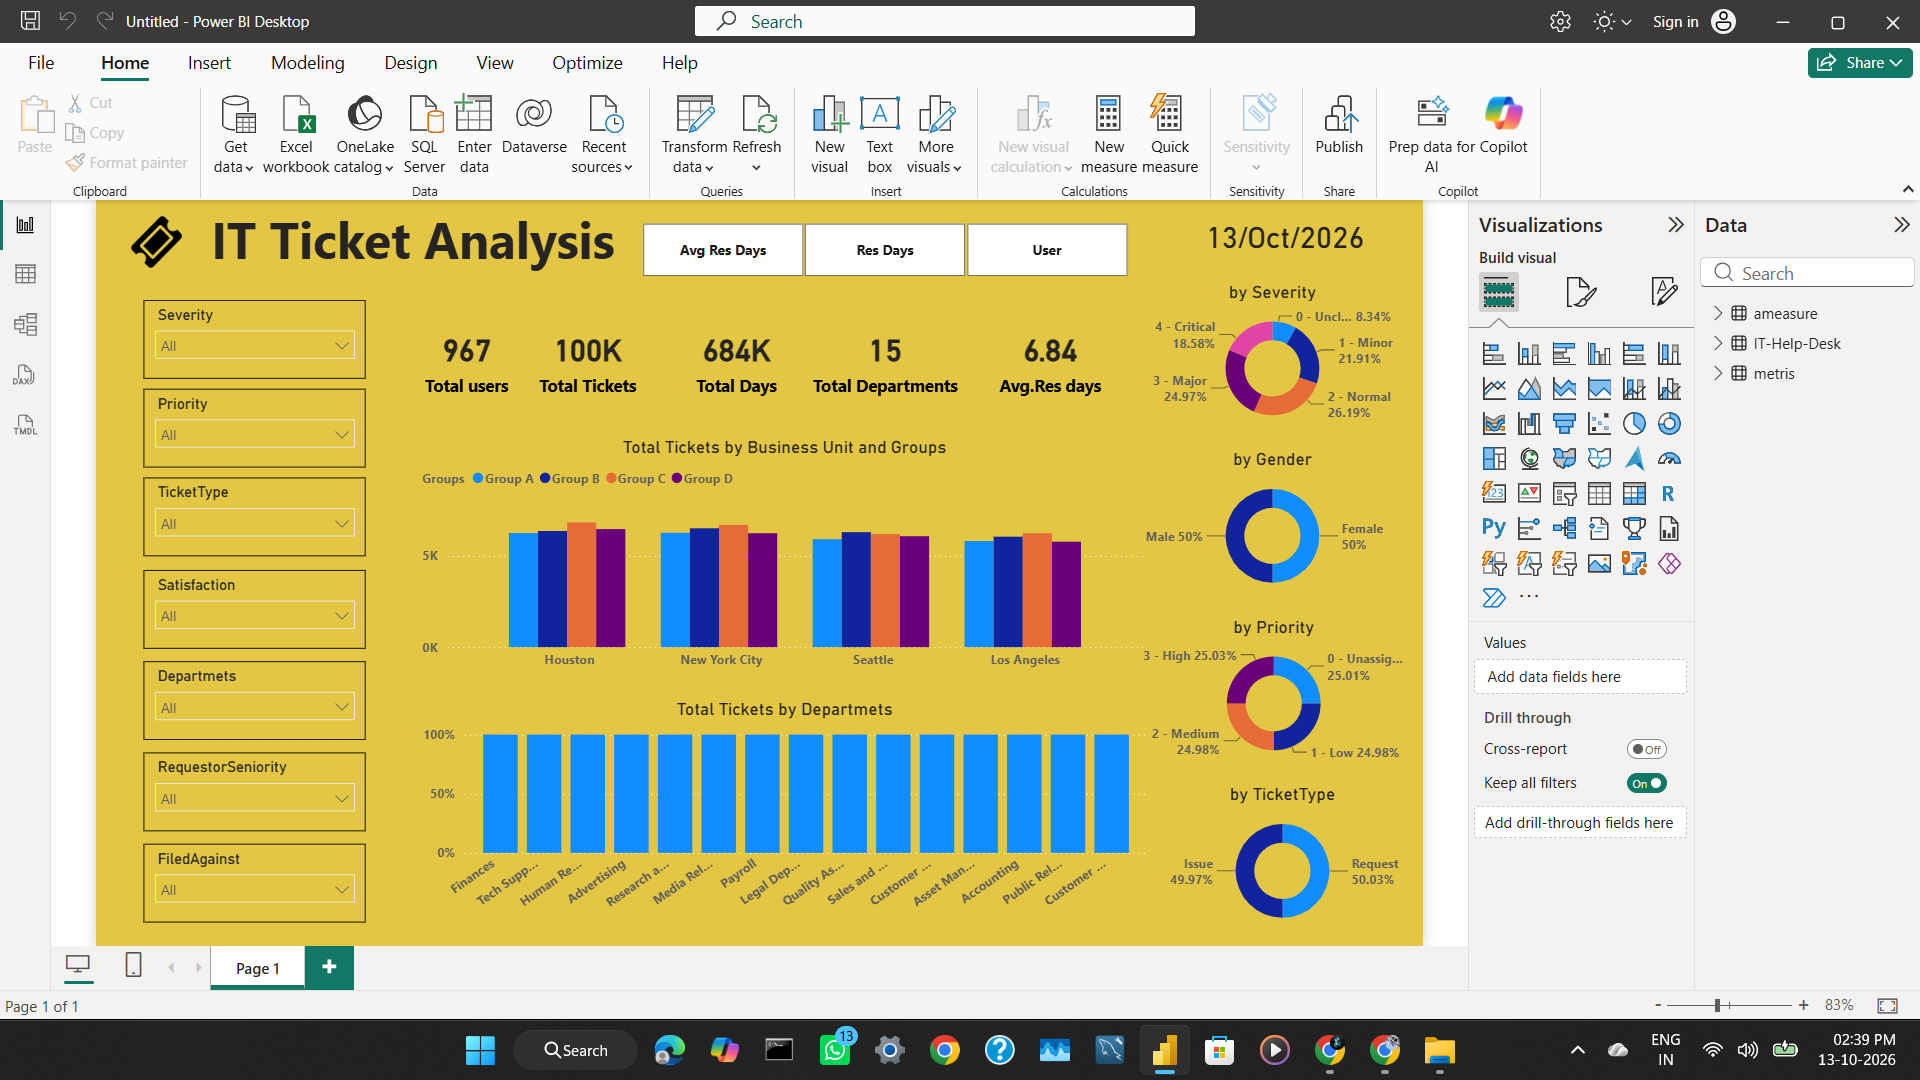

The page's visual inventory and layout, read from the dashboard file:
{"tool":"powerbi","page":{"name":"Page 1","canvas":[1280,720],"ordinal":0},"visuals":[{"type":"group","id":"g1","title":"Headings","box":[16.3,0,564.9,80],"z":0},{"type":"textbox","box":[106.3,0,474.9,80],"z":0,"group":"g1"},{"type":"donutChart","title":" by Severity","fields":{"Y":["ameasure.logic"],"Series":["IT-Help-Desk.Severity"]},"box":[1007.4,78.4,256.6,147.8],"z":0,"group":"g5"},{"type":"slicer","fields":{"Values":["IT-Help-Desk.Severity"]},"box":[45.7,96.7,214.7,76],"z":0,"group":"g2"},{"type":"card","fields":{"Values":["ameasure.total tickets"]},"box":[367.3,96.7,216.1,115.8],"z":0,"group":"g3"},{"type":"clusteredColumnChart","fields":{"Y":["ameasure.Total Tickets"],"Category":["IT-Help-Desk.Business Unit"],"Series":["IT-Help-Desk.Groups"]},"box":[310.3,228.4,709.3,233.8],"z":0,"group":"g4"},{"type":"image","box":[16.3,15.7,85.7,49.5],"z":1000,"group":"g1"},{"type":"group","id":"g2","title":"Slicers","box":[45.7,96.7,214.9,600.5],"z":1000},{"type":"card","fields":{"Values":["ameasure.Total Department"]},"box":[654.2,96.7,216.1,115.8],"z":1000,"group":"g3"},{"type":"slicer","fields":{"Values":["IT-Help-Desk.Priority"]},"box":[45.7,182.4,214.7,76],"z":1000,"group":"g2"},{"type":"donutChart","title":" by Gender","fields":{"Y":["ameasure.logic"],"Series":["IT-Help-Desk.Gender"]},"box":[1007.4,239.6,256.6,147.8],"z":1000,"group":"g5"},{"type":"hundredPercentStackedColumnChart","fields":{"Y":["ameasure.Total Tickets"],"Category":["IT-Help-Desk.Departmets"]},"box":[310.3,482.3,709.3,214.9],"z":1000,"group":"g4"},{"type":"group","id":"g3","title":"slicers","box":[249.9,96.7,779.2,115.5],"z":2000},{"type":"card","fields":{"Values":["ameasure.Total Days"]},"box":[510.2,96.7,216.1,115.8],"z":2000,"group":"g3"},{"type":"slicer","fields":{"Values":["IT-Help-Desk.TicketType"]},"box":[45.7,268,214.7,76],"z":2000,"group":"g2"},{"type":"donutChart","title":"by Priority","fields":{"Y":["ameasure.logic"],"Series":["IT-Help-Desk.Priority"]},"box":[1008.7,402.2,256.6,147.8],"z":2000,"group":"g5"},{"type":"card","fields":{"Values":["ameasure.Total users"]},"box":[249.9,96.7,216.4,115.5],"z":3000,"group":"g3"},{"type":"group","id":"g4","title":"Bar charts","box":[310.3,228.4,709.3,468.9],"z":3000},{"type":"slicer","fields":{"Values":["IT-Help-Desk.Satisfaction"]},"box":[45.7,357.3,214.7,76],"z":3000,"group":"g2"},{"type":"donutChart","title":" by TicketType","fields":{"Y":["ameasure.logic"],"Category":["IT-Help-Desk.TicketType"]},"box":[1016.8,563.4,256.6,147.8],"z":3000,"group":"g5"},{"type":"slicer","fields":{"Values":["metris.Column1"]},"box":[502.4,16.1,517.2,64.5],"z":4000},{"type":"card","fields":{"Values":["ameasure.Avg.res days"]},"box":[813.2,96.7,216.1,115.8],"z":4000,"group":"g3"},{"type":"slicer","fields":{"Values":["IT-Help-Desk.Departmets"]},"box":[45.7,445.4,214.7,76],"z":4000,"group":"g2"},{"type":"group","id":"g5","title":"donut","box":[1007.4,78.4,266.6,633.4],"z":5000},{"type":"slicer","fields":{"Values":["IT-Help-Desk.RequestorSeniority"]},"box":[45.7,533.4,214.7,76],"z":5000,"group":"g2"},{"type":"card","fields":{"Values":["ameasure.Last Refresh Date"]},"box":[1030.3,15.7,235.3,37.4],"z":6000},{"type":"slicer","fields":{"Values":["IT-Help-Desk.FiledAgainst"]},"box":[45.7,621.5,214.7,76],"z":6000,"group":"g2"}]}

Visuals, with their boxes on the page's 1280x720 design canvas (x1, y1, x2, y2). These are canvas units, not pixel positions in the 1920x1080 screenshot, which may show the page scaled, cropped or inside an application window:
"Headings" group: crop(16, 0, 581, 80)
textbox: crop(106, 0, 581, 80)
" by Severity" donutChart: crop(1007, 78, 1264, 226)
slicer - IT-Help-Desk.Severity: crop(46, 97, 260, 173)
card - ameasure.total tickets: crop(367, 97, 583, 212)
clusteredColumnChart - ameasure.Total Tickets x IT-Help-Desk.Business Unit: crop(310, 228, 1020, 462)
image: crop(16, 16, 102, 65)
"Slicers" group: crop(46, 97, 261, 697)
card - ameasure.Total Department: crop(654, 97, 870, 212)
slicer - IT-Help-Desk.Priority: crop(46, 182, 260, 258)
" by Gender" donutChart: crop(1007, 240, 1264, 387)
hundredPercentStackedColumnChart - ameasure.Total Tickets x IT-Help-Desk.Departmets: crop(310, 482, 1020, 697)
"slicers" group: crop(250, 97, 1029, 212)
card - ameasure.Total Days: crop(510, 97, 726, 212)
slicer - IT-Help-Desk.TicketType: crop(46, 268, 260, 344)
"by Priority" donutChart: crop(1009, 402, 1265, 550)
card - ameasure.Total users: crop(250, 97, 466, 212)
"Bar charts" group: crop(310, 228, 1020, 697)
slicer - IT-Help-Desk.Satisfaction: crop(46, 357, 260, 433)
" by TicketType" donutChart: crop(1017, 563, 1273, 711)
slicer - metris.Column1: crop(502, 16, 1020, 81)
card - ameasure.Avg.res days: crop(813, 97, 1029, 212)
slicer - IT-Help-Desk.Departmets: crop(46, 445, 260, 521)
"donut" group: crop(1007, 78, 1274, 712)
slicer - IT-Help-Desk.RequestorSeniority: crop(46, 533, 260, 609)
card - ameasure.Last Refresh Date: crop(1030, 16, 1266, 53)
slicer - IT-Help-Desk.FiledAgainst: crop(46, 622, 260, 698)
